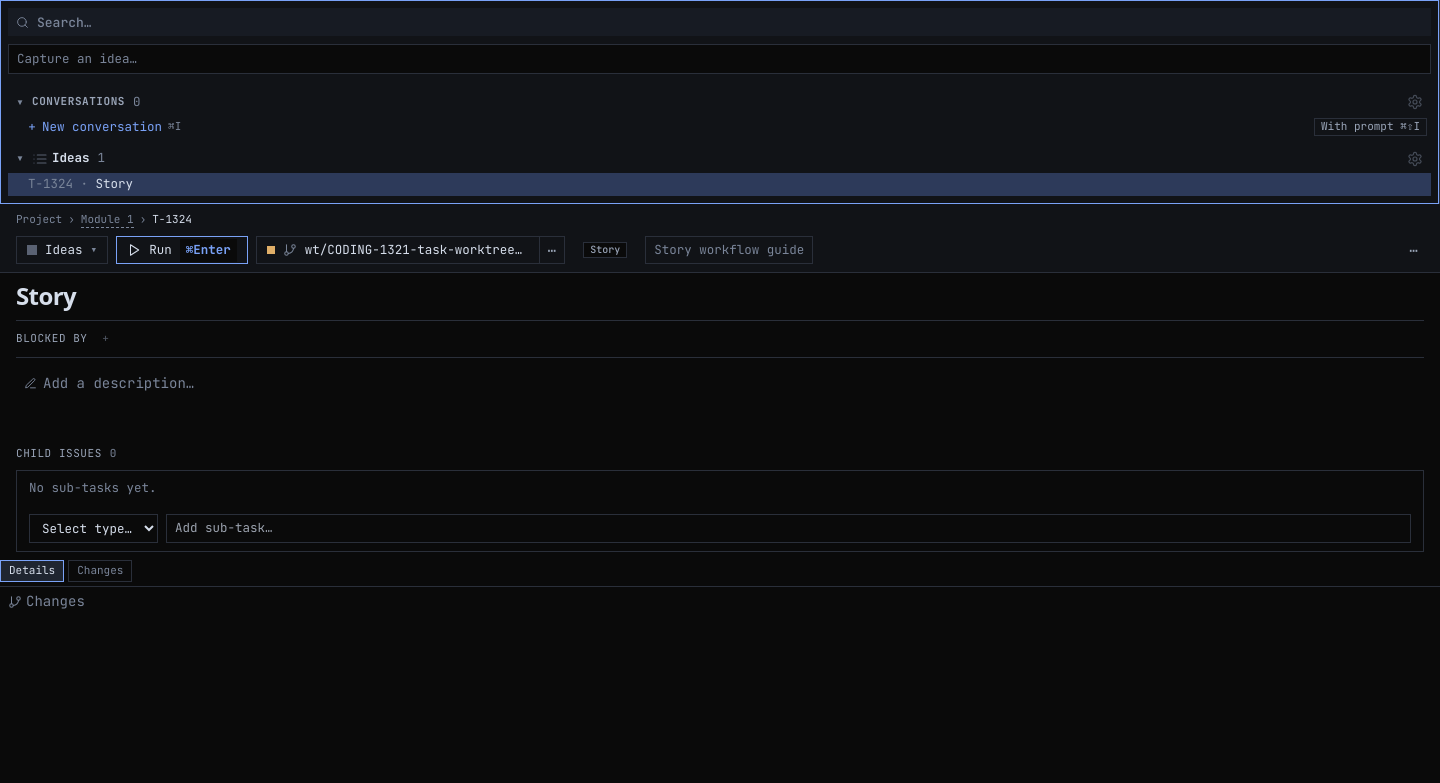
Test case: overhaul acceptance - stacked task pull requests › [overhaul-192] preserves clean state and Open PR when the final refresh fails
The image size is (1440, 783).
Click the tab "Changes" at (100, 571), box left=68, top=560, right=132, bottom=582
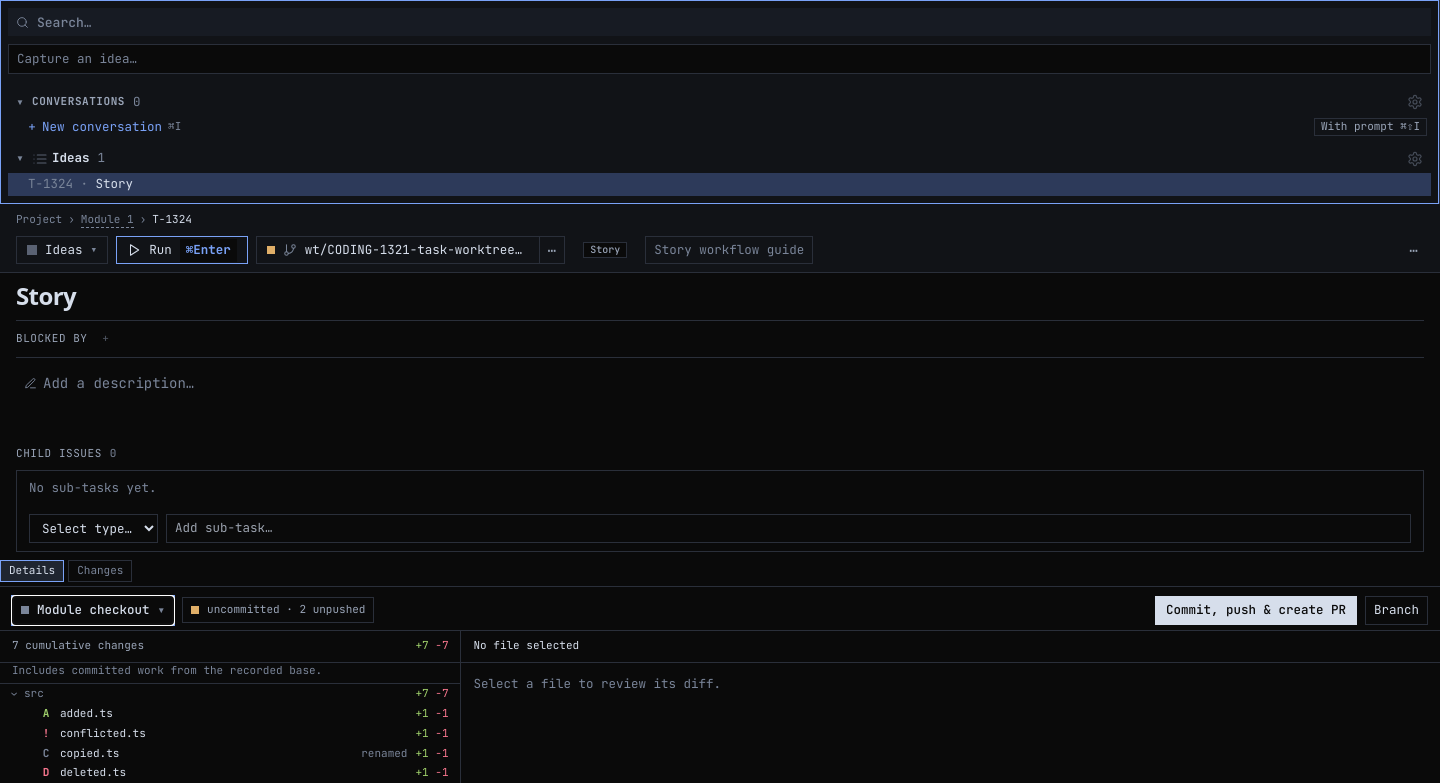
Click the button "Branch" at (1396, 610), box left=1365, top=596, right=1428, bottom=625
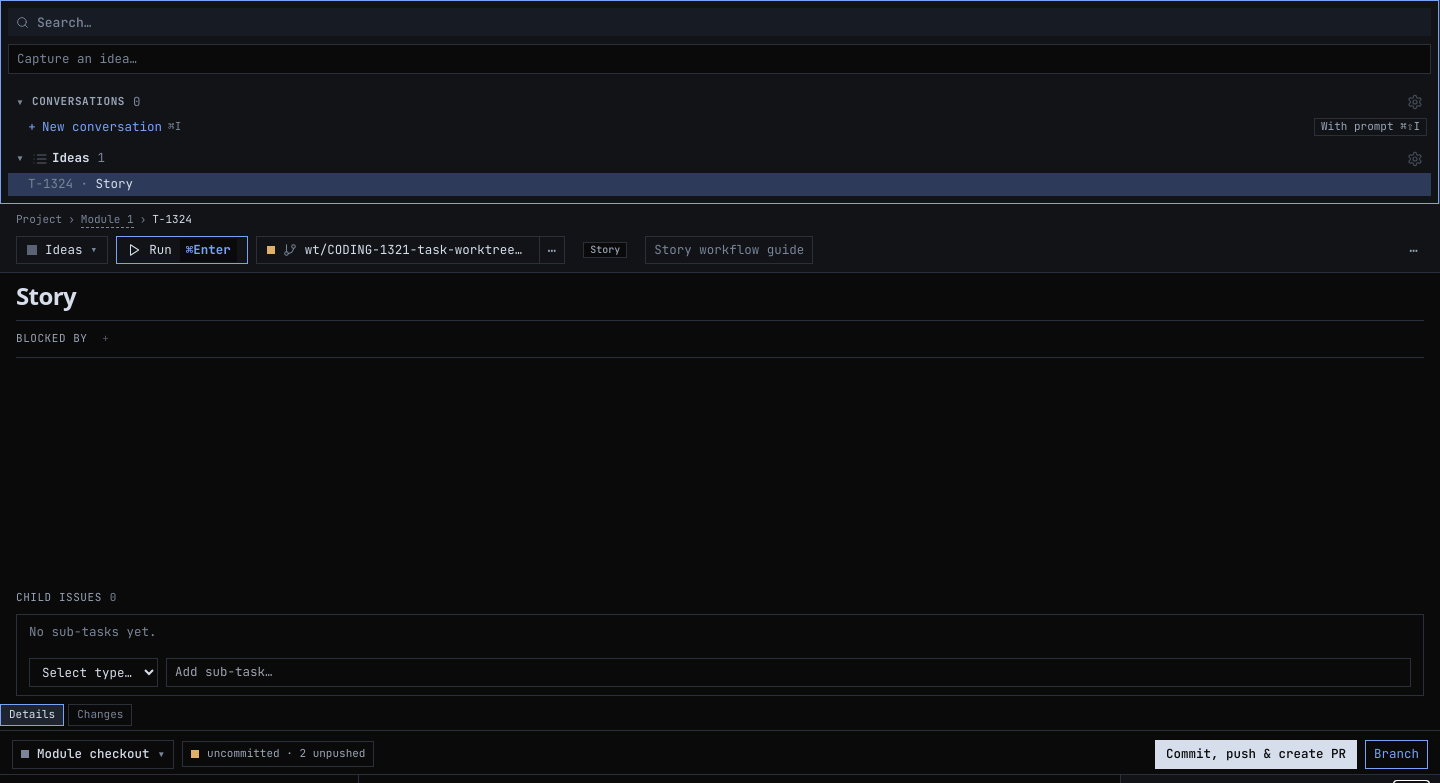
Click the button "Commit, push & create PR" at (1256, 754), box left=1155, top=740, right=1357, bottom=769
(page scrolled)
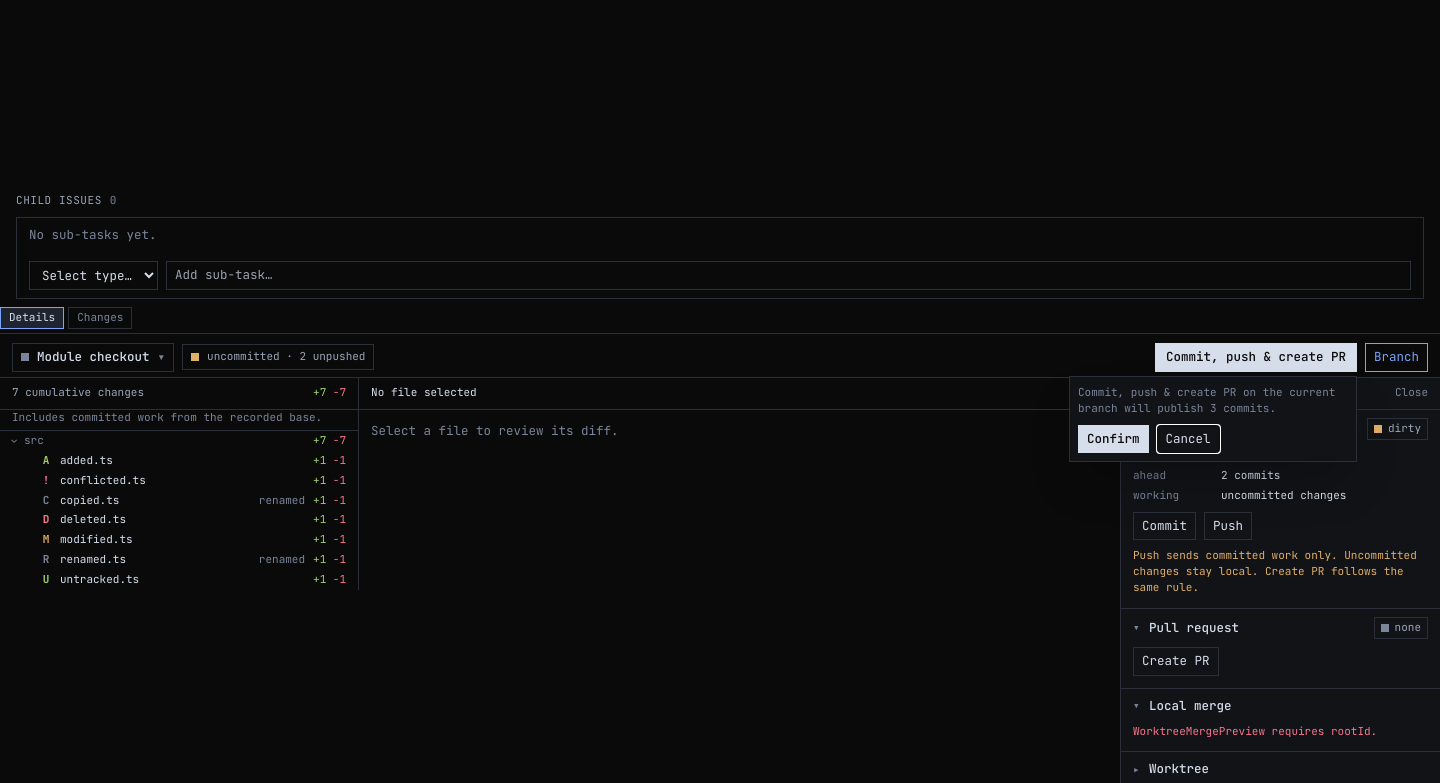
Click the button "Confirm" at (1113, 439), box left=1078, top=424, right=1148, bottom=453
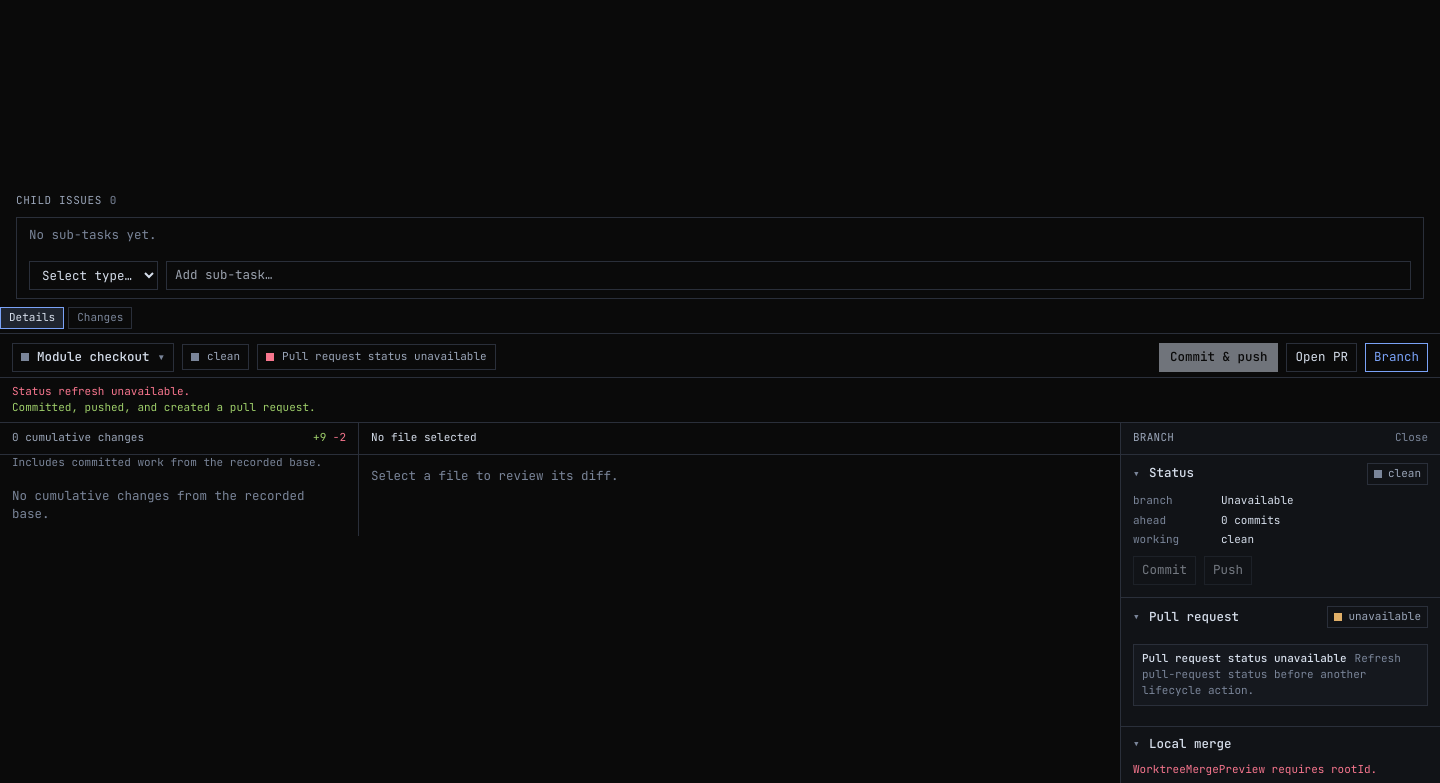
Now the button "create PR" is gone
Now the dialog is gone
Now the button "Commit & push" is disabled, box left=1159, top=343, right=1278, bottom=372
